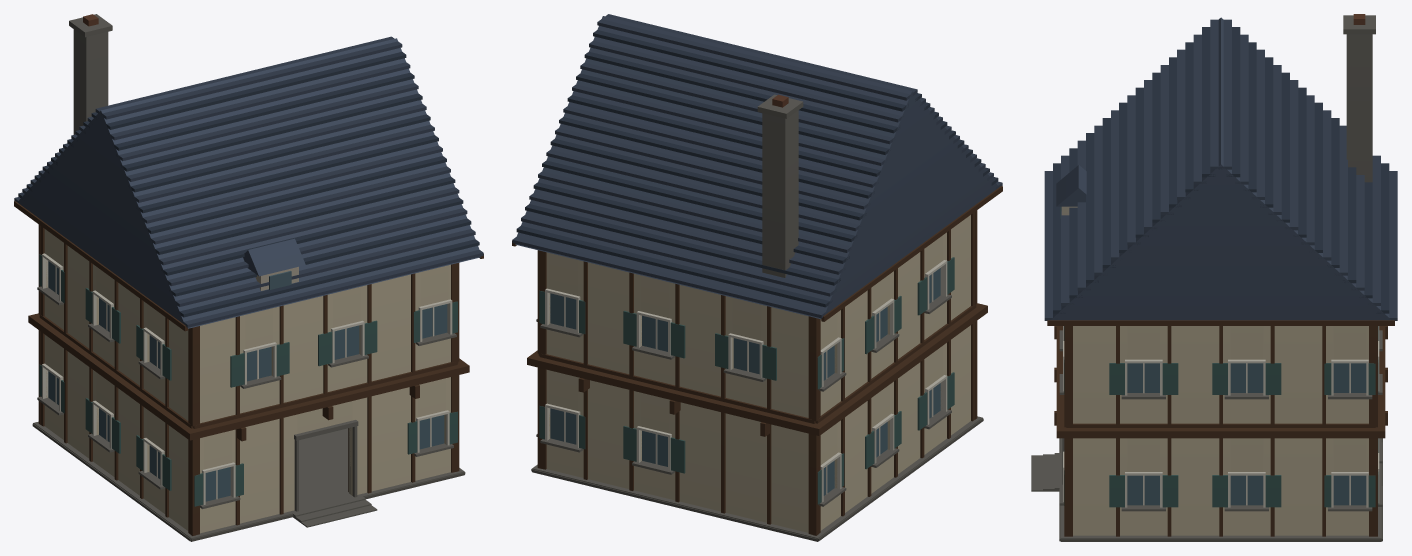
Rendered from town_townhouse_slate.glb.
The picture shows the model from 3 angles, left to right: view 1: azimuth 30°, elevation 25°; view 2: azimuth 150°, elevation 25°; view 3: azimuth 270°, elevation 25°; orthographic projection. The views are drawn at different scales.
Parts seen in each view (by area): view 1: prop; view 2: prop; view 3: prop.
Part boxes in pixels (bbox=[...]): prop: bbox=[14, 14, 483, 541]; prop: bbox=[512, 14, 1002, 541]; prop: bbox=[1031, 14, 1397, 541].
Size of the model in its own units: 10.22 by 13.3 by 10.66.
